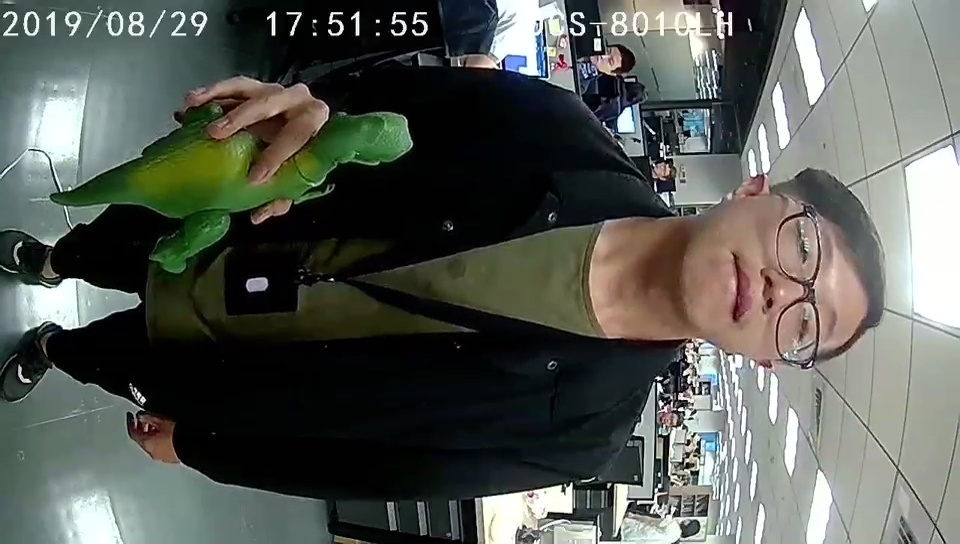rex: (120, 100, 413, 275)
